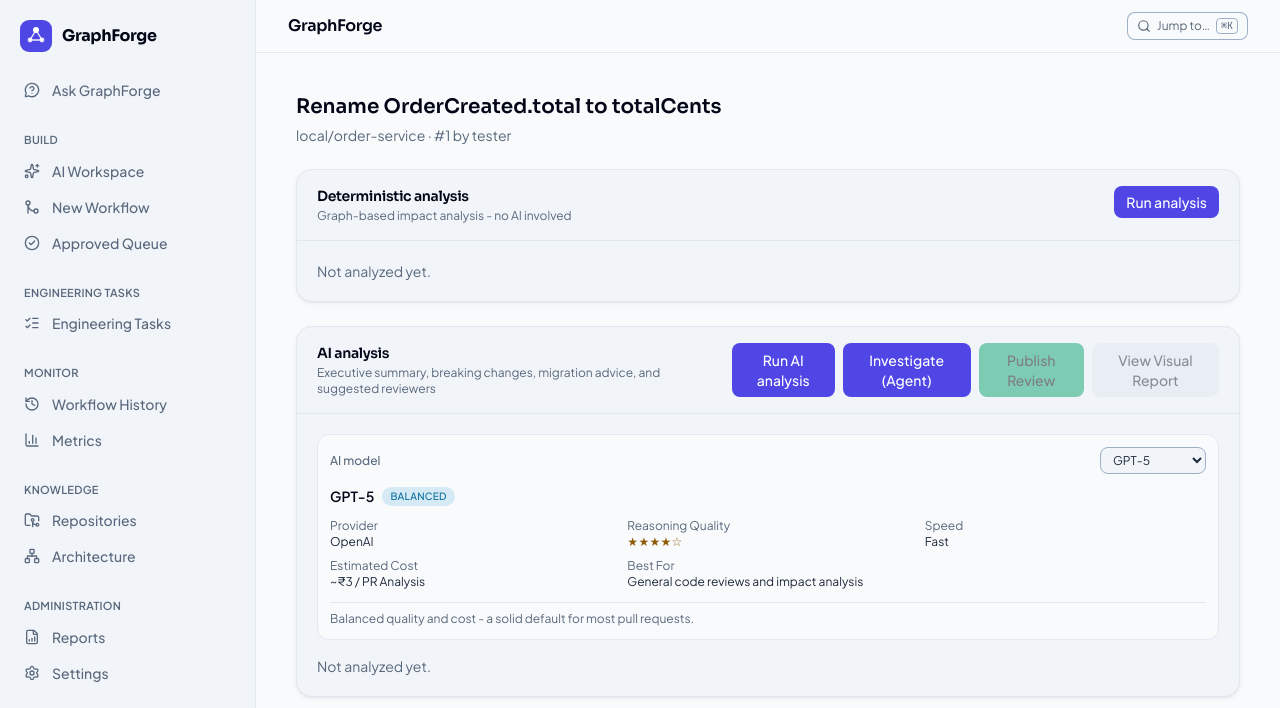
Test case: App navigation (authenticated) › runs the investigation agent and shows its reasoning log, cleared on a plain AI run
This screenshot has width=1280, height=708.
Click the button "Investigate (Agent)".
click(907, 370)  # box [843,343,971,397]
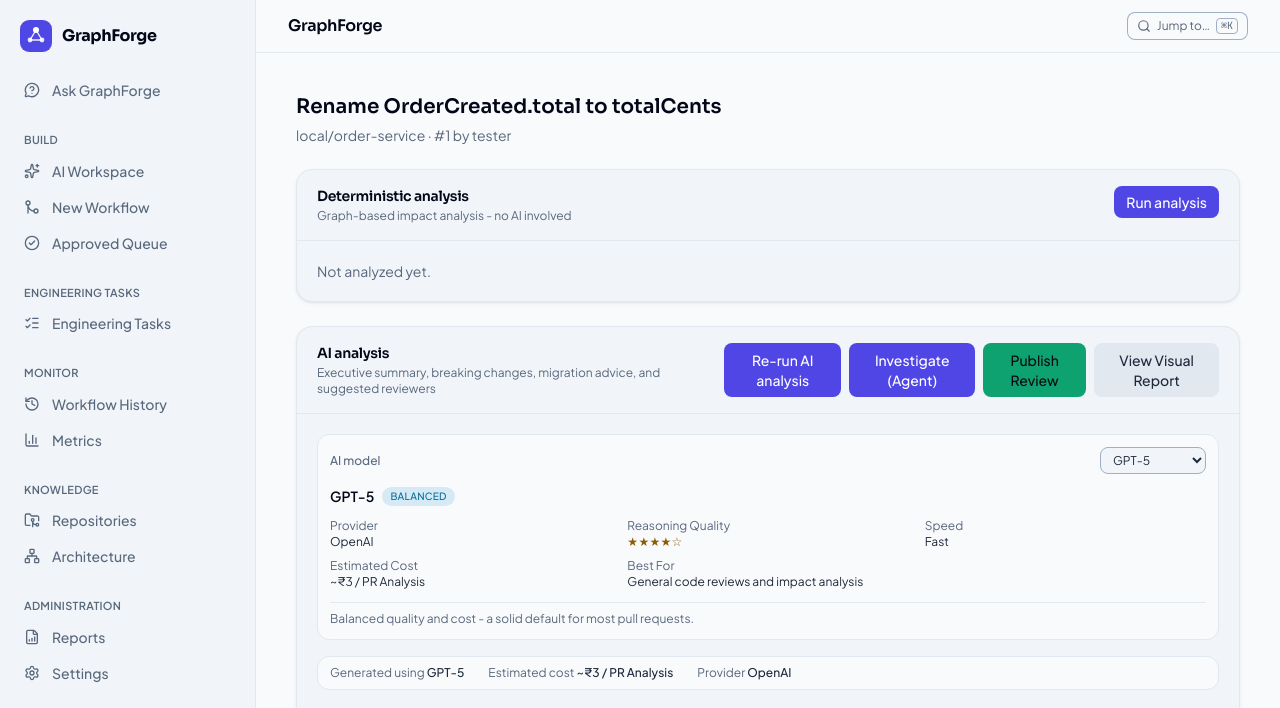
Click the button "Re-run AI analysis".
click(783, 370)  # box [724,343,841,397]
(page scrolled)
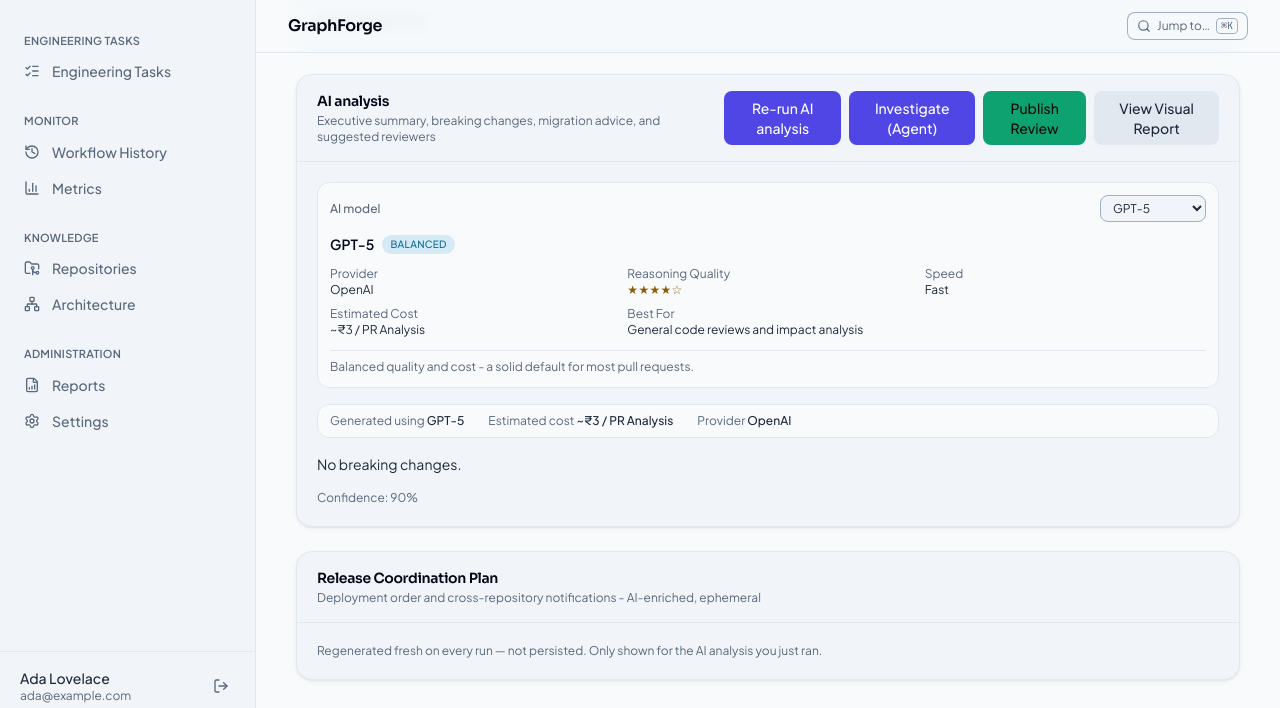
Check: the text "No breaking changes." is shown, box [317,455,461,473]
